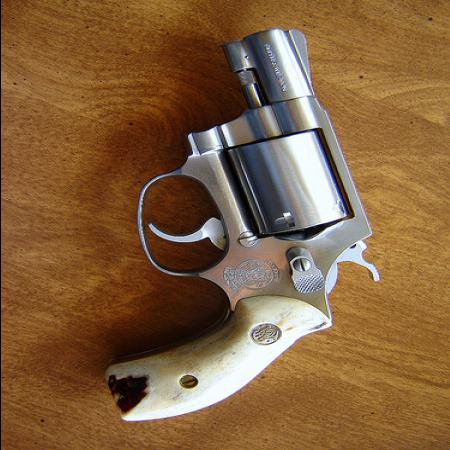Pistol: (95, 26, 383, 420)
